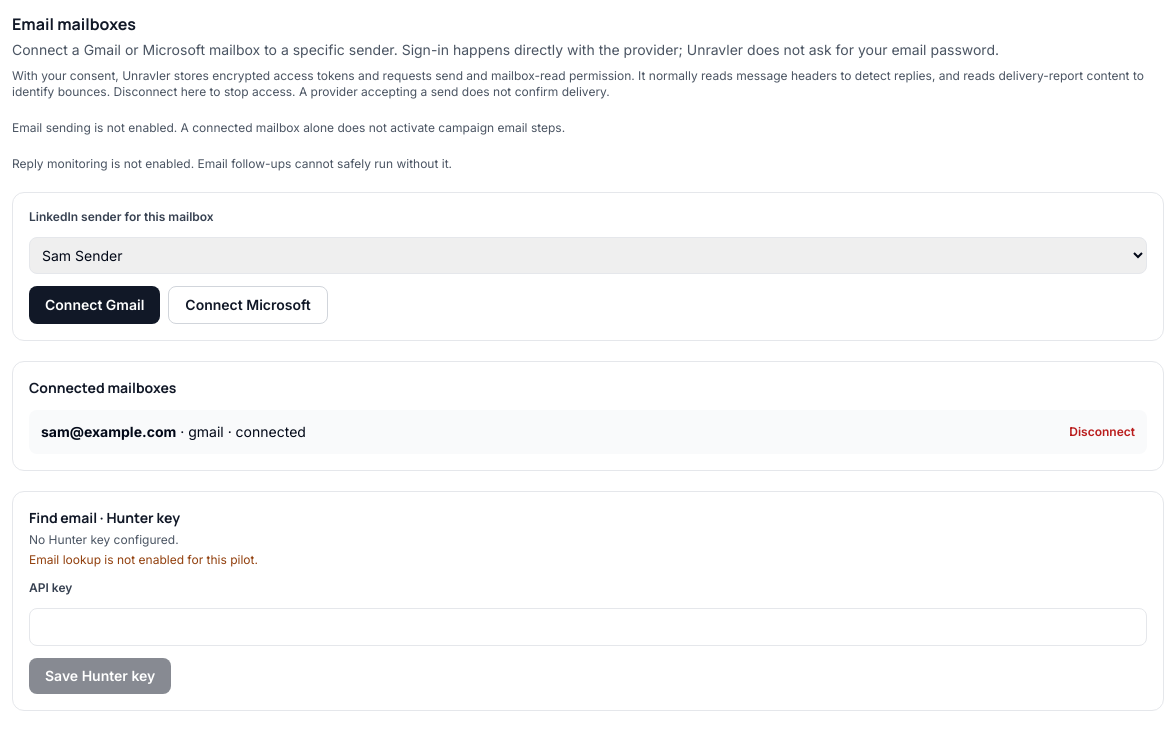
Scenario: Outreach email connection settings › disconnects a sender mailbox only after confirmation
The width and height of the screenshot is (1164, 732).
Click the button "Disconnect" at (1102, 432), box x1=1069 y1=424 x2=1135 y2=440
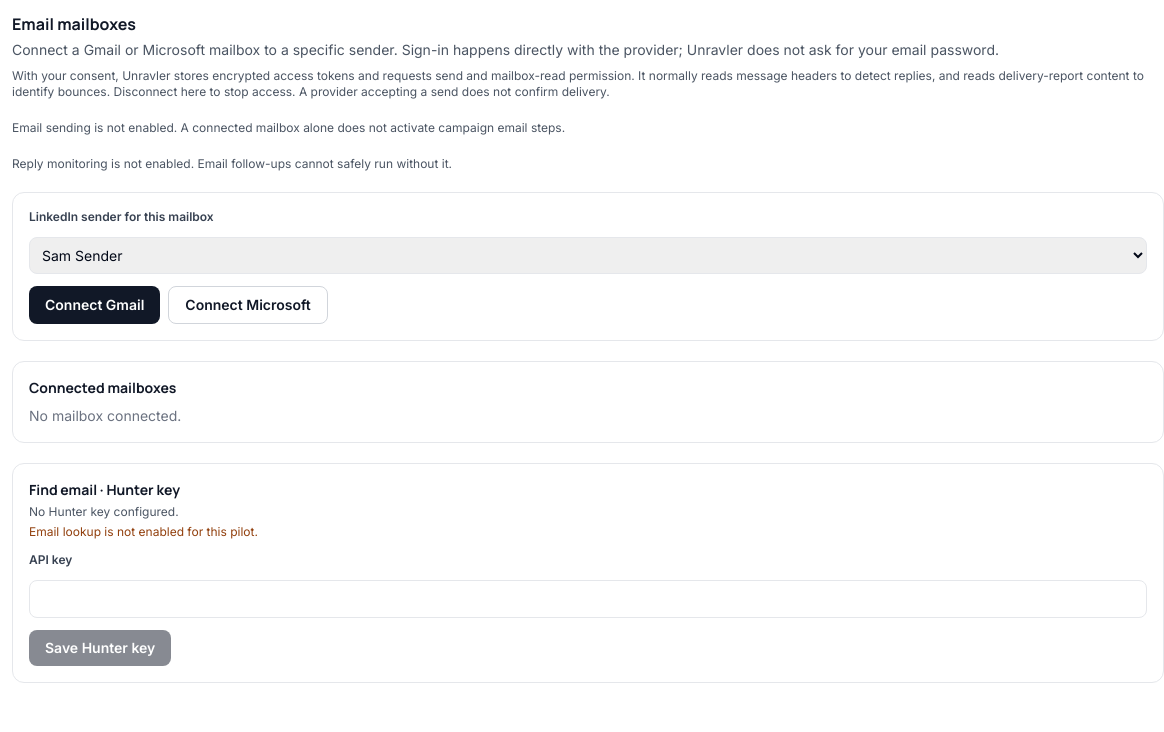
Check: the text "No mailbox connected." is shown, box x1=29 y1=407 x2=181 y2=424
